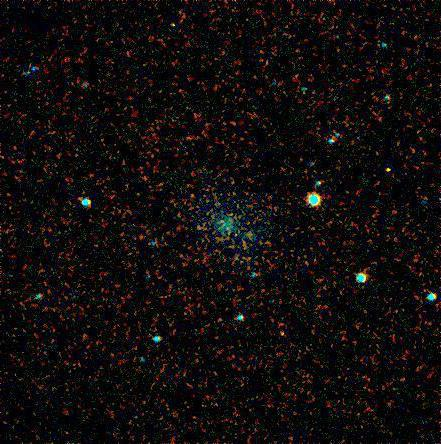star: (371, 157, 401, 187)
